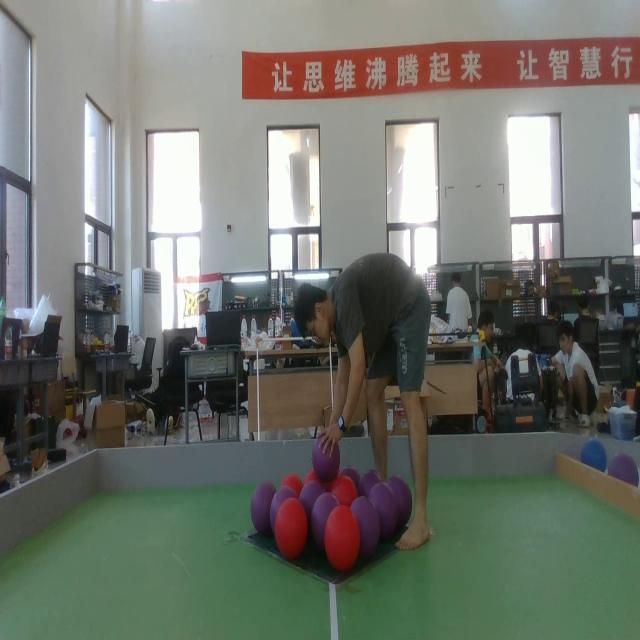blue: (578, 439, 606, 483)
invalid: (349, 494, 378, 562), (370, 484, 397, 542), (251, 481, 274, 537), (387, 475, 410, 528), (312, 492, 335, 543), (270, 486, 296, 530), (610, 455, 635, 497), (362, 465, 383, 501), (316, 444, 337, 480), (342, 468, 366, 494), (301, 482, 321, 506)
red: (324, 506, 360, 569), (274, 499, 306, 558), (332, 475, 357, 508), (280, 474, 304, 492), (306, 468, 321, 482)
